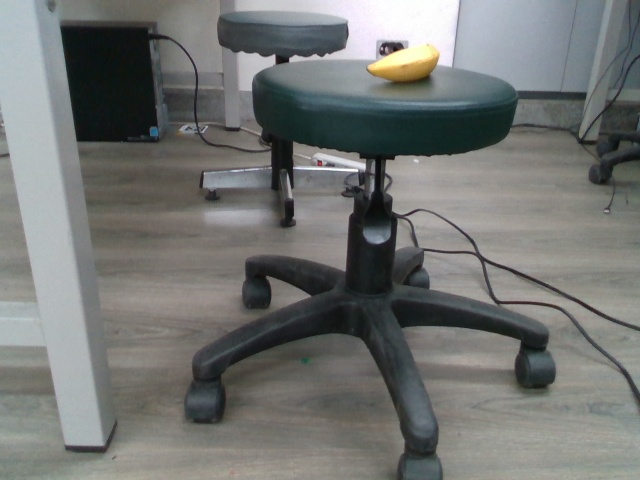banana: (364, 41, 443, 82)
